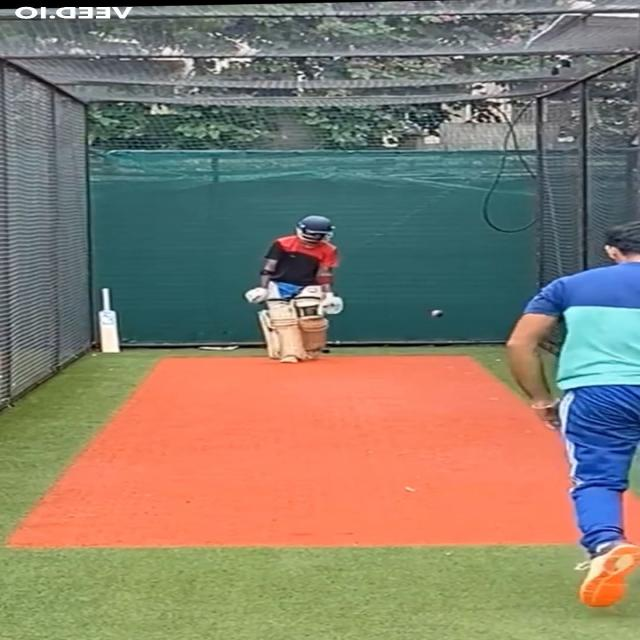ball: (425, 308, 449, 320)
